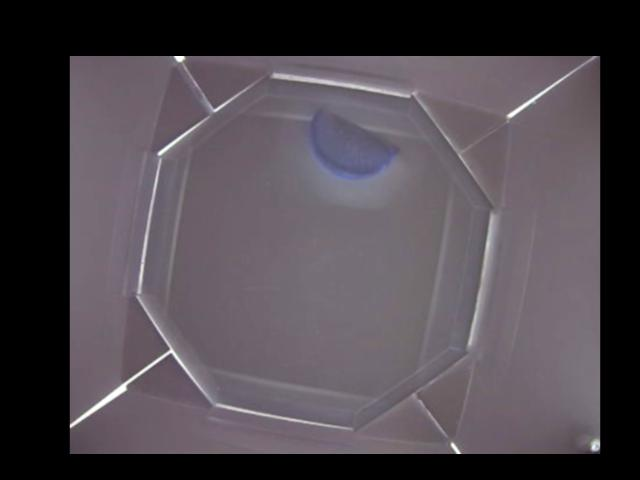Mooli: (307, 107, 401, 180)
